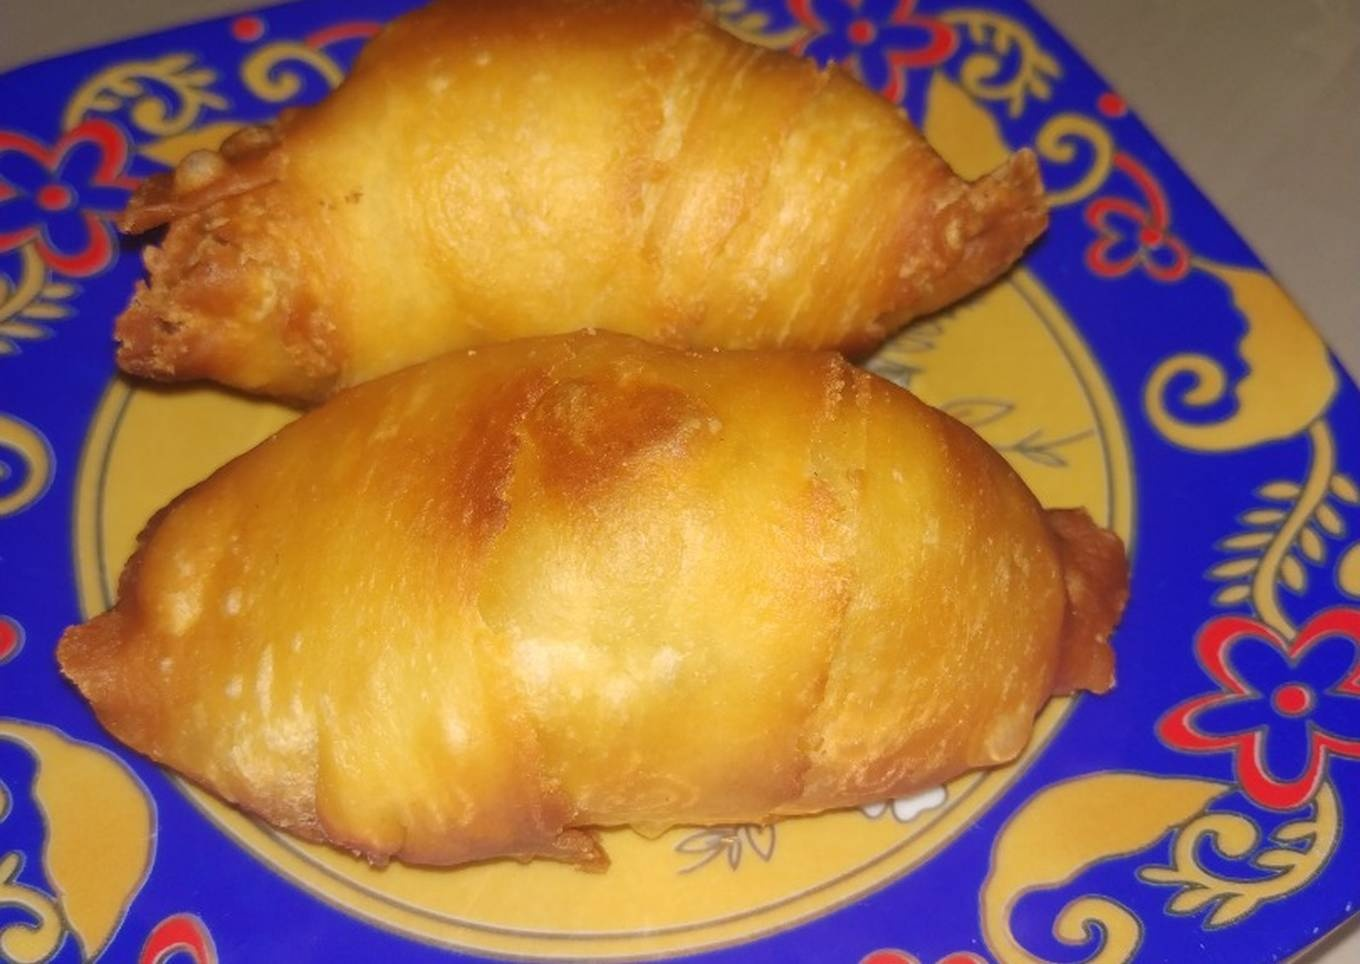pisang_molen: (52, 321, 1127, 871), (114, 4, 1045, 416)
